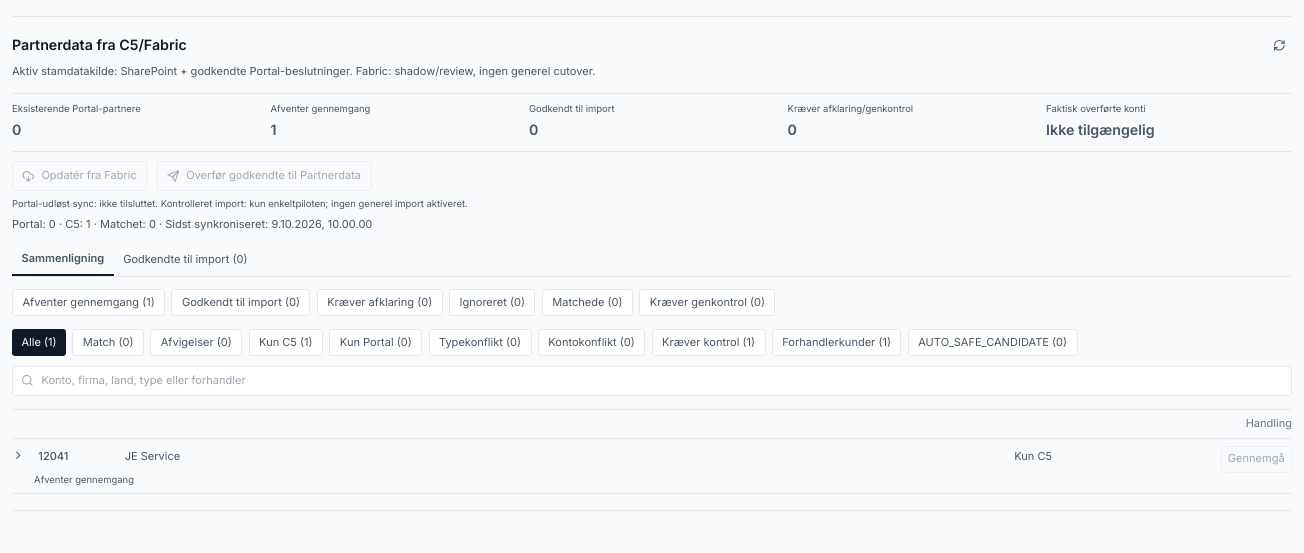
Test case: Backend read-only Fabric comparison › keeps last valid display when preview reload fails
This screenshot has width=1304, height=553.
Expected: the text "JE Service" is shown, [125, 449, 180, 463]
Click the button named "Genindlæs sammenligning".
click(1279, 45)  # box [1267, 33, 1292, 58]
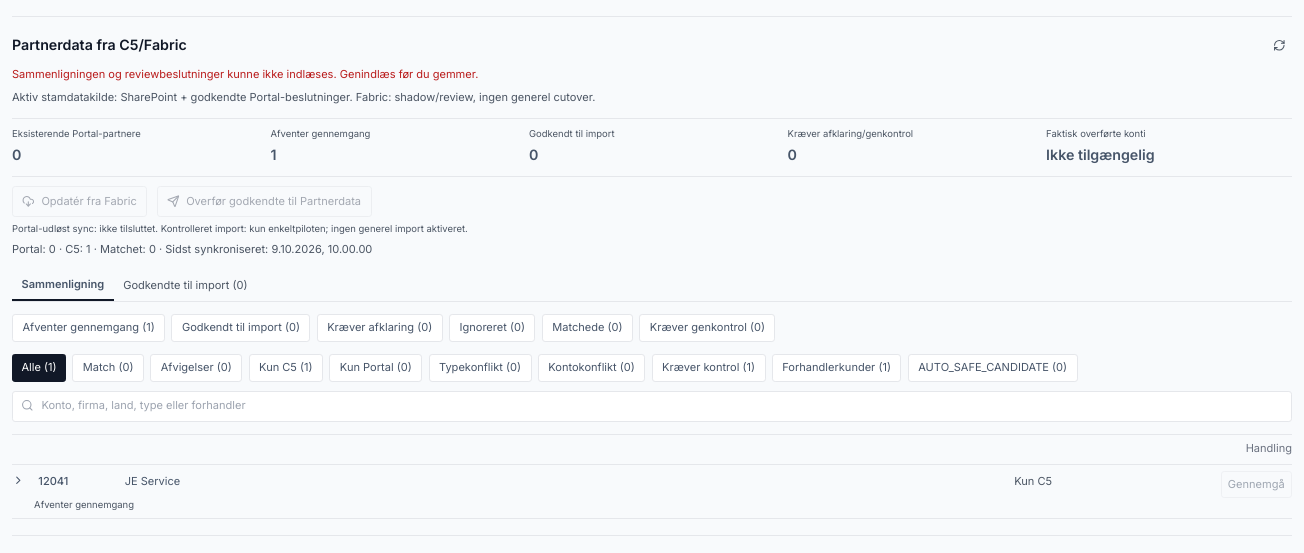
Expected: the text "JE Service" is shown, [125, 474, 180, 488]
Now the message is shown, box [12, 68, 478, 82]
